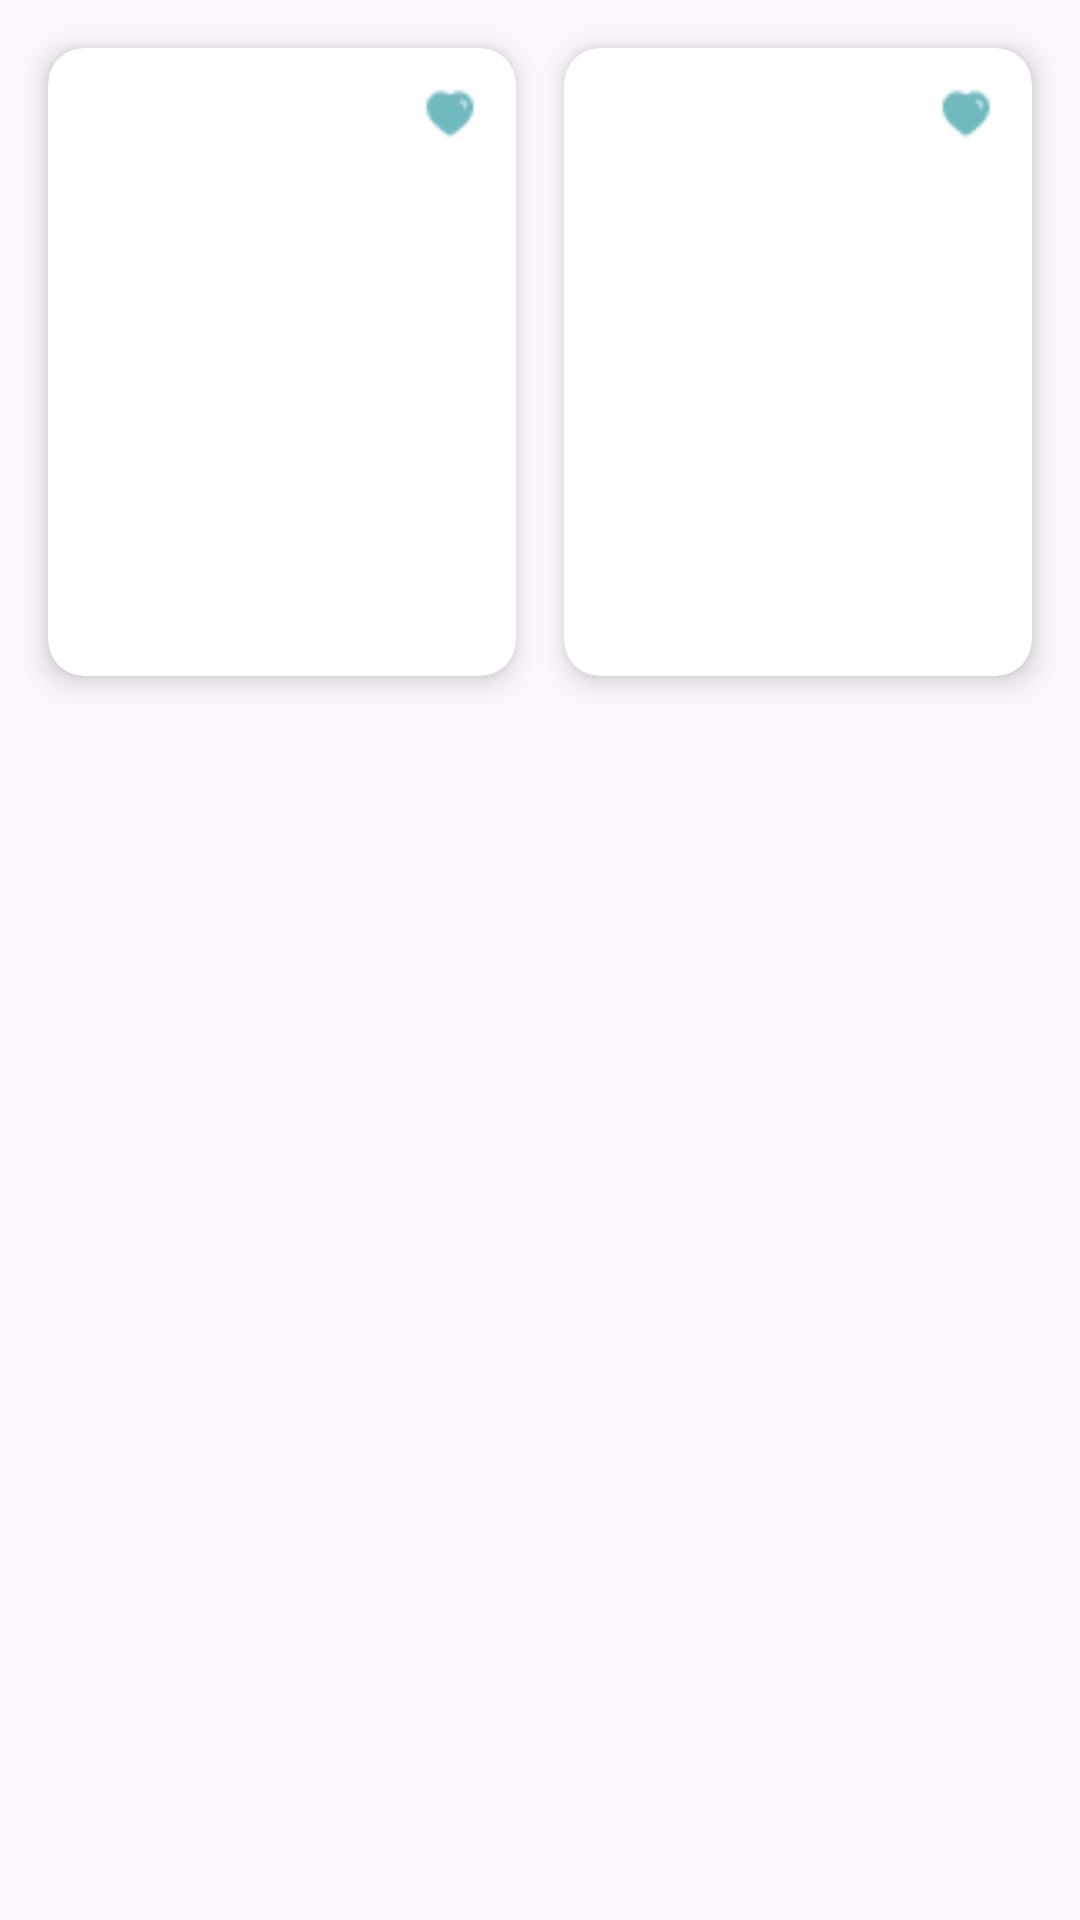

Screen size 1080 x 1920. Icon name, then its center in pixels as [x,y]:
Favorite: [450,113], [966,113]
